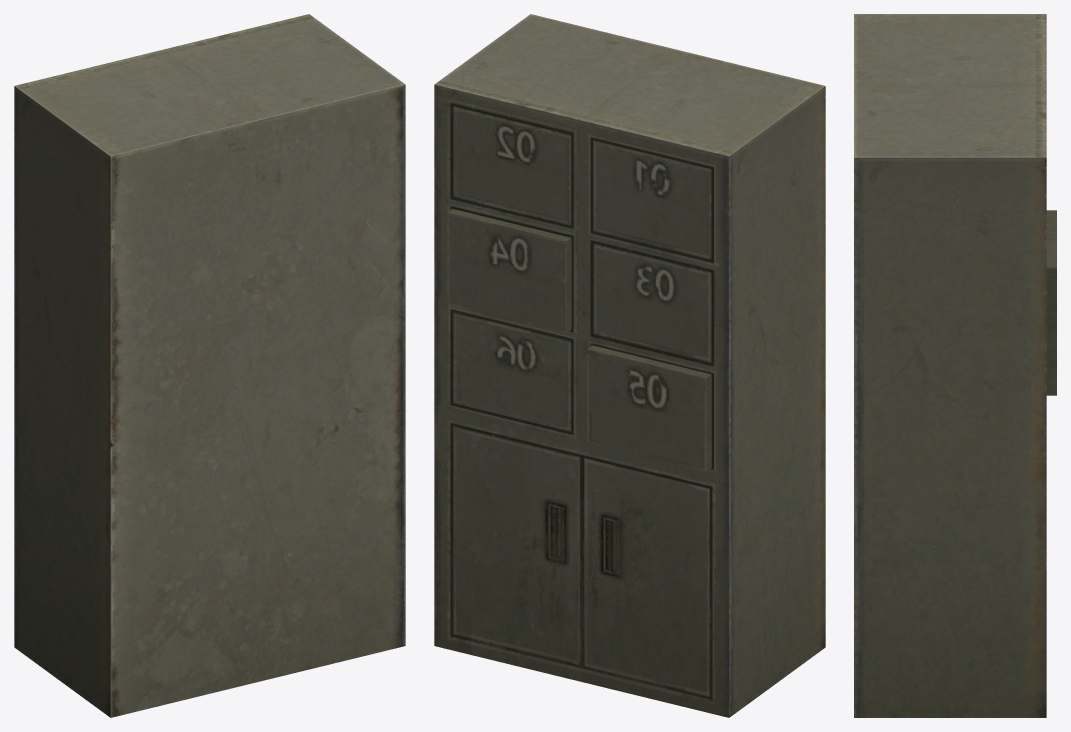
File: Prop_Jjgz01.glb
The picture shows the model from 3 angles, left to right: view 1: azimuth 30°, elevation 25°; view 2: azimuth 150°, elevation 25°; view 3: azimuth 270°, elevation 25°; orthographic projection.
Parts seen in each view (by area): view 1: xiutz_jjgz_01; view 2: xiutz_jjgz_01; view 3: xiutz_jjgz_01.
Part boxes in pixels (bbox=[...]): xiutz_jjgz_01: bbox=[14, 14, 405, 717]; xiutz_jjgz_01: bbox=[434, 14, 825, 717]; xiutz_jjgz_01: bbox=[854, 14, 1056, 717].
Size of the model in its own units: 1.39 by 2.52 by 0.8266.
1 material, 1 textured.
